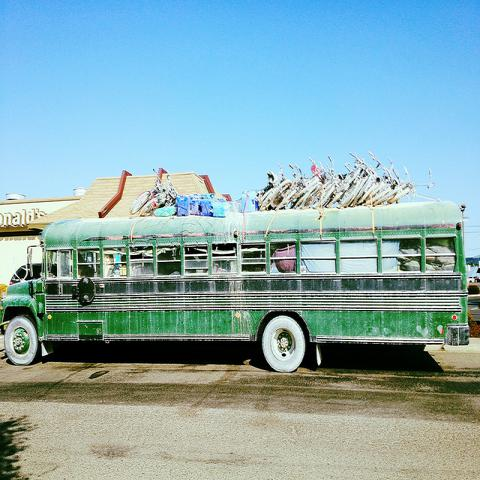bus: (1, 212, 468, 370)
